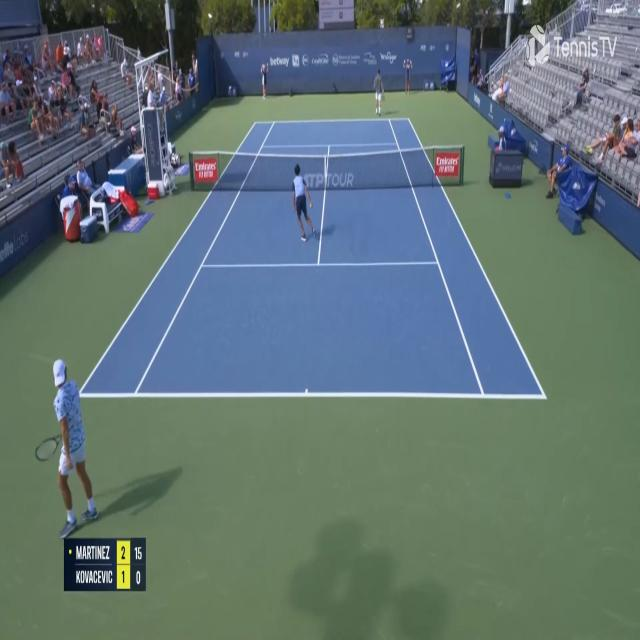tennis-player: (32, 351, 102, 536), (372, 67, 386, 116)
